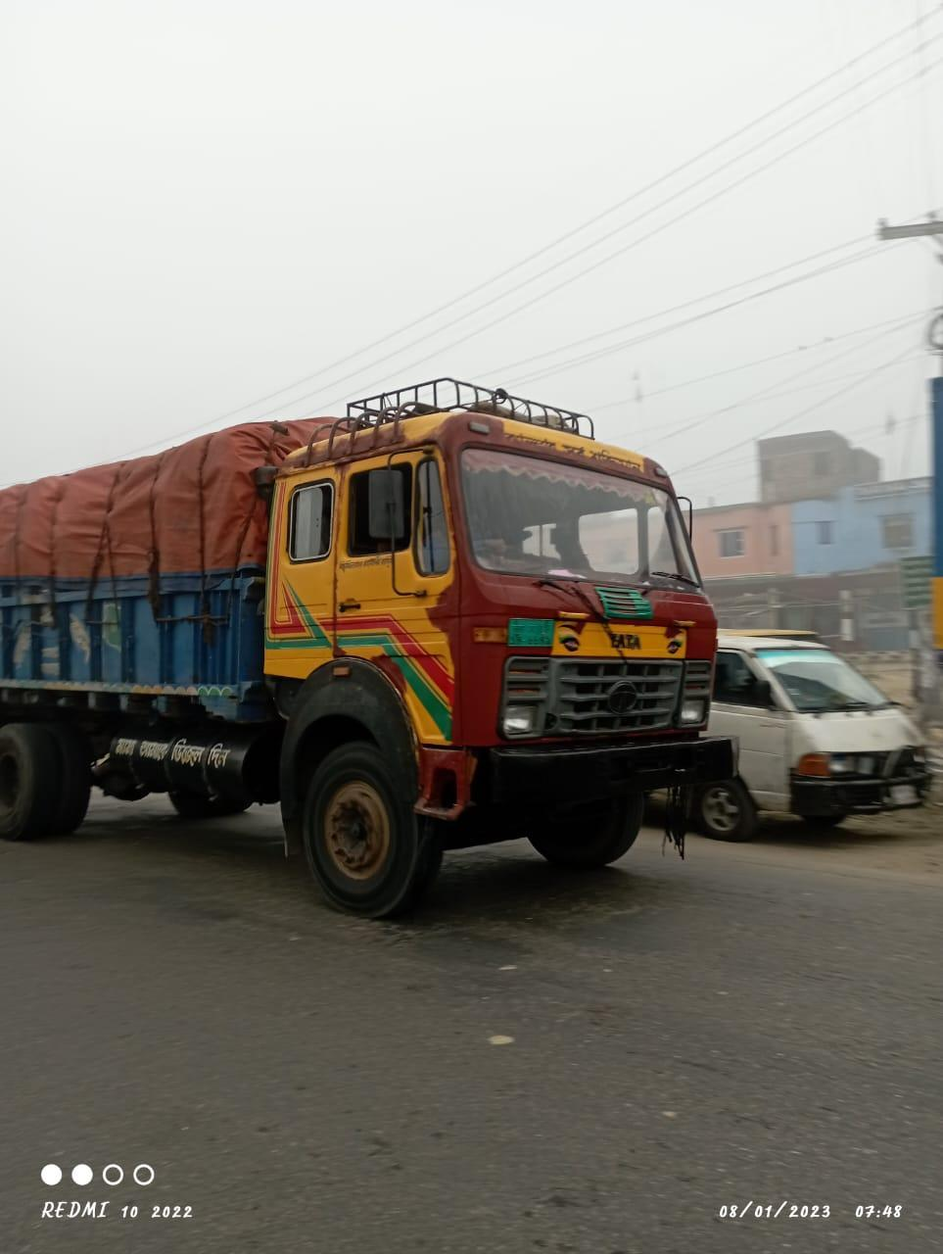Car: (710, 607, 942, 853)
Truck: (17, 372, 737, 955)
